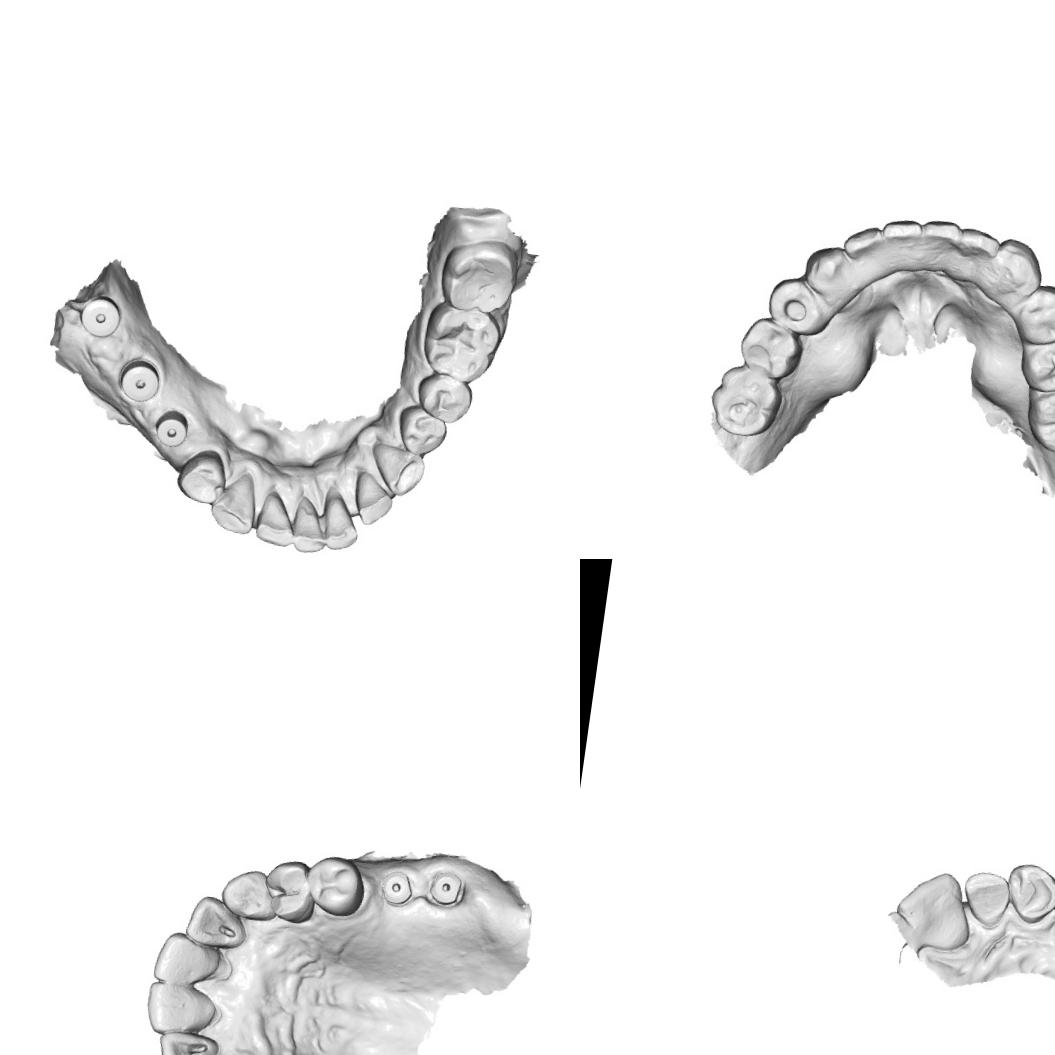canine: (204, 467, 262, 537), (216, 865, 282, 924), (1001, 857, 1055, 928), (367, 440, 429, 500), (991, 236, 1047, 300), (800, 241, 852, 296)
implant: (75, 290, 124, 341), (116, 356, 165, 406), (150, 406, 192, 450), (374, 867, 418, 909), (426, 870, 466, 909)
incisor: (890, 865, 979, 956), (139, 980, 223, 1042), (150, 929, 224, 988), (182, 890, 252, 952), (957, 867, 1015, 931), (316, 487, 366, 553), (252, 488, 302, 549), (348, 470, 399, 529), (287, 494, 334, 556), (878, 214, 924, 270), (956, 225, 1002, 278), (918, 216, 963, 269), (840, 221, 885, 267), (152, 1027, 222, 1055)
molar: (418, 296, 506, 389), (436, 233, 523, 319), (706, 363, 786, 441), (1021, 374, 1055, 458)
premolar: (734, 313, 807, 382), (300, 852, 370, 922), (258, 856, 320, 926), (765, 273, 829, 338), (414, 369, 476, 428), (392, 401, 451, 461), (172, 445, 230, 506), (1015, 281, 1055, 349), (1016, 331, 1055, 398)
